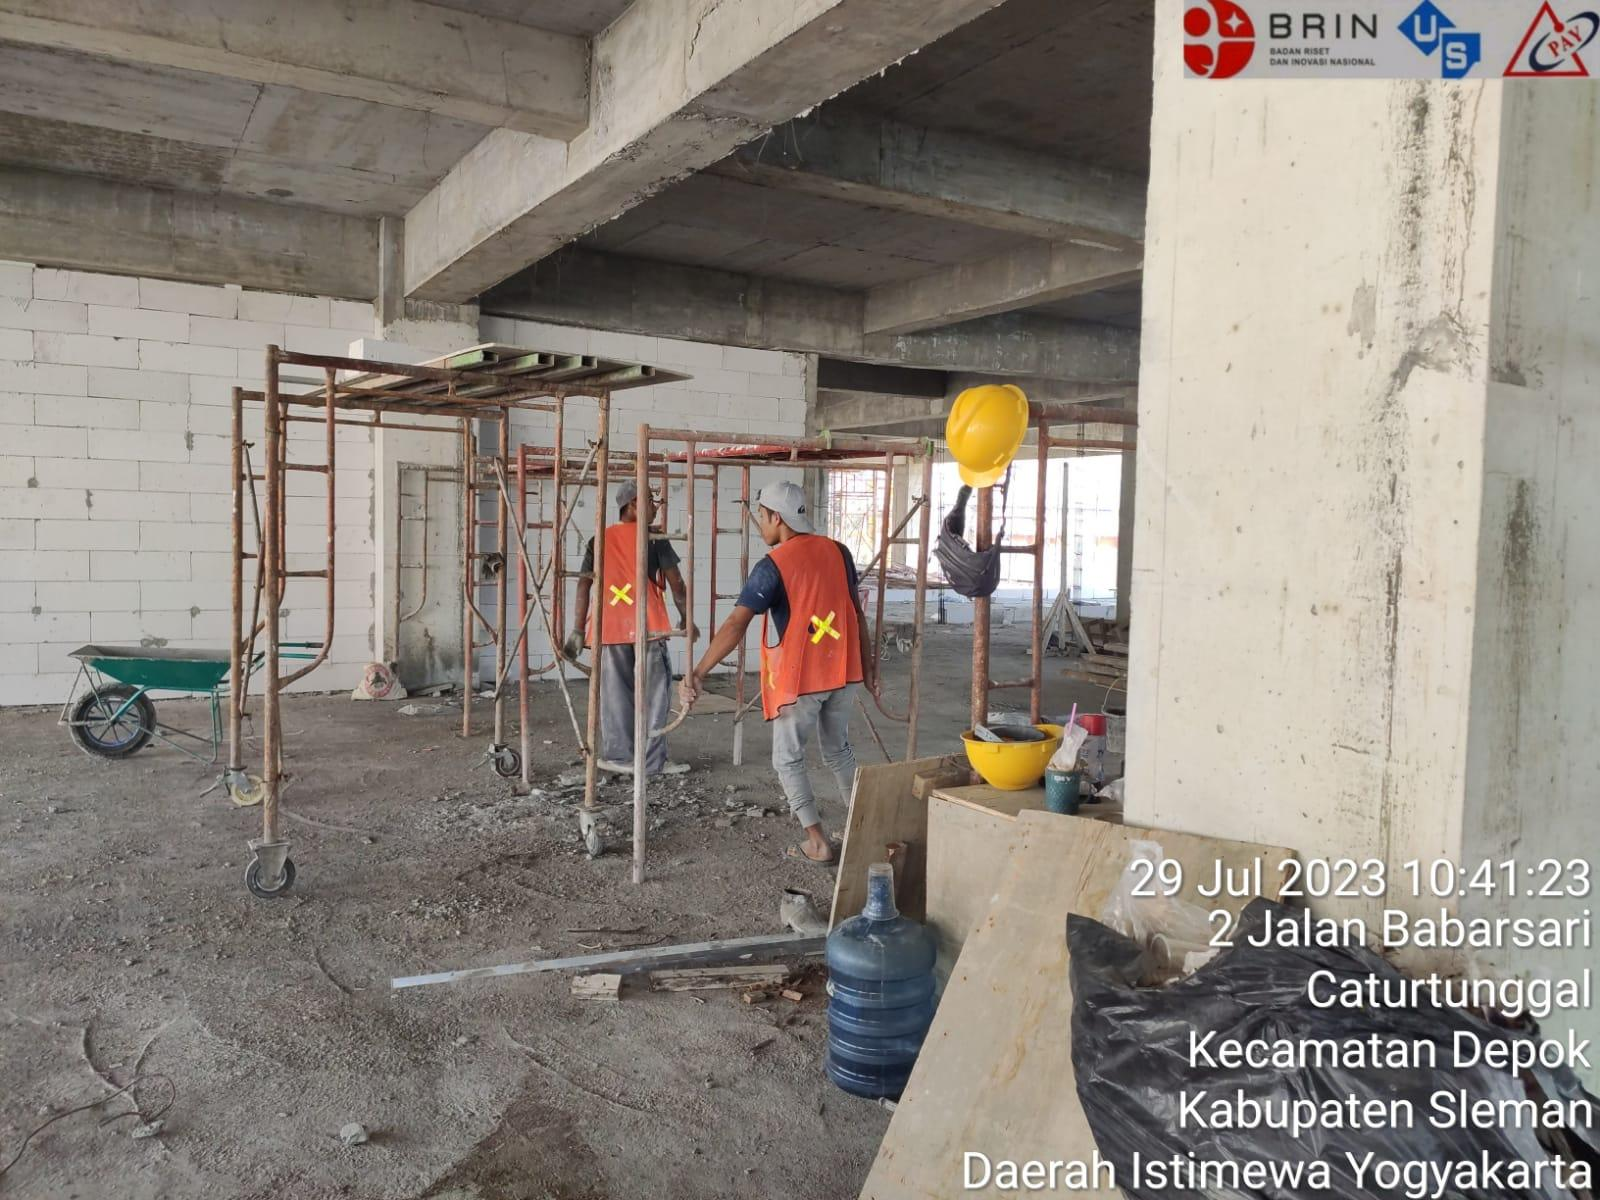no hat: (751, 466, 837, 558), (601, 459, 673, 537)
vest: (724, 537, 901, 708), (567, 511, 713, 676)
